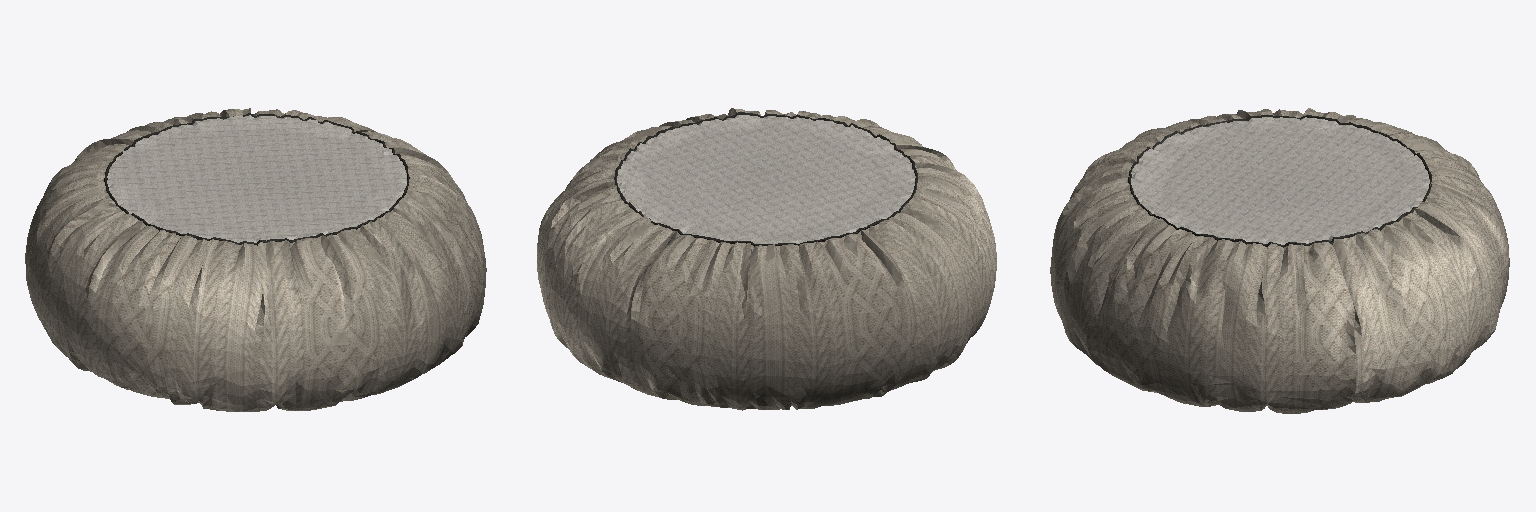
3 views of the same model, side by side, from view 1: azimuth 30°, elevation 25°; view 2: azimuth 150°, elevation 25°; view 3: azimuth 270°, elevation 25° (orthographic).
Parts seen in each view (by area): view 1: solid_002, solid_003, solid_001; view 2: solid_002, solid_003, solid_001; view 3: solid_002, solid_003, solid_001.
Part boxes in pixels (bbox=[...]): solid_002: bbox=[25, 108, 486, 411]; solid_003: bbox=[107, 115, 406, 242]; solid_001: bbox=[104, 113, 409, 245]; solid_002: bbox=[537, 108, 996, 410]; solid_003: bbox=[617, 115, 915, 243]; solid_001: bbox=[614, 112, 917, 246]; solid_002: bbox=[1050, 108, 1509, 413]; solid_003: bbox=[1131, 117, 1429, 244]; solid_001: bbox=[1128, 115, 1431, 247].
Bounding box in the file's own units: 0.7375 × 0.2844 × 0.7353.
Materials: 1 (1 with a texture image).